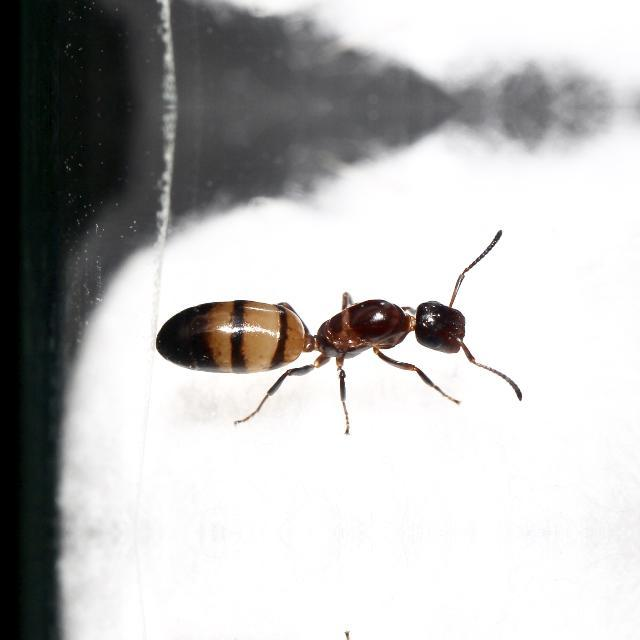Colobopsis: (140, 262, 516, 404)
